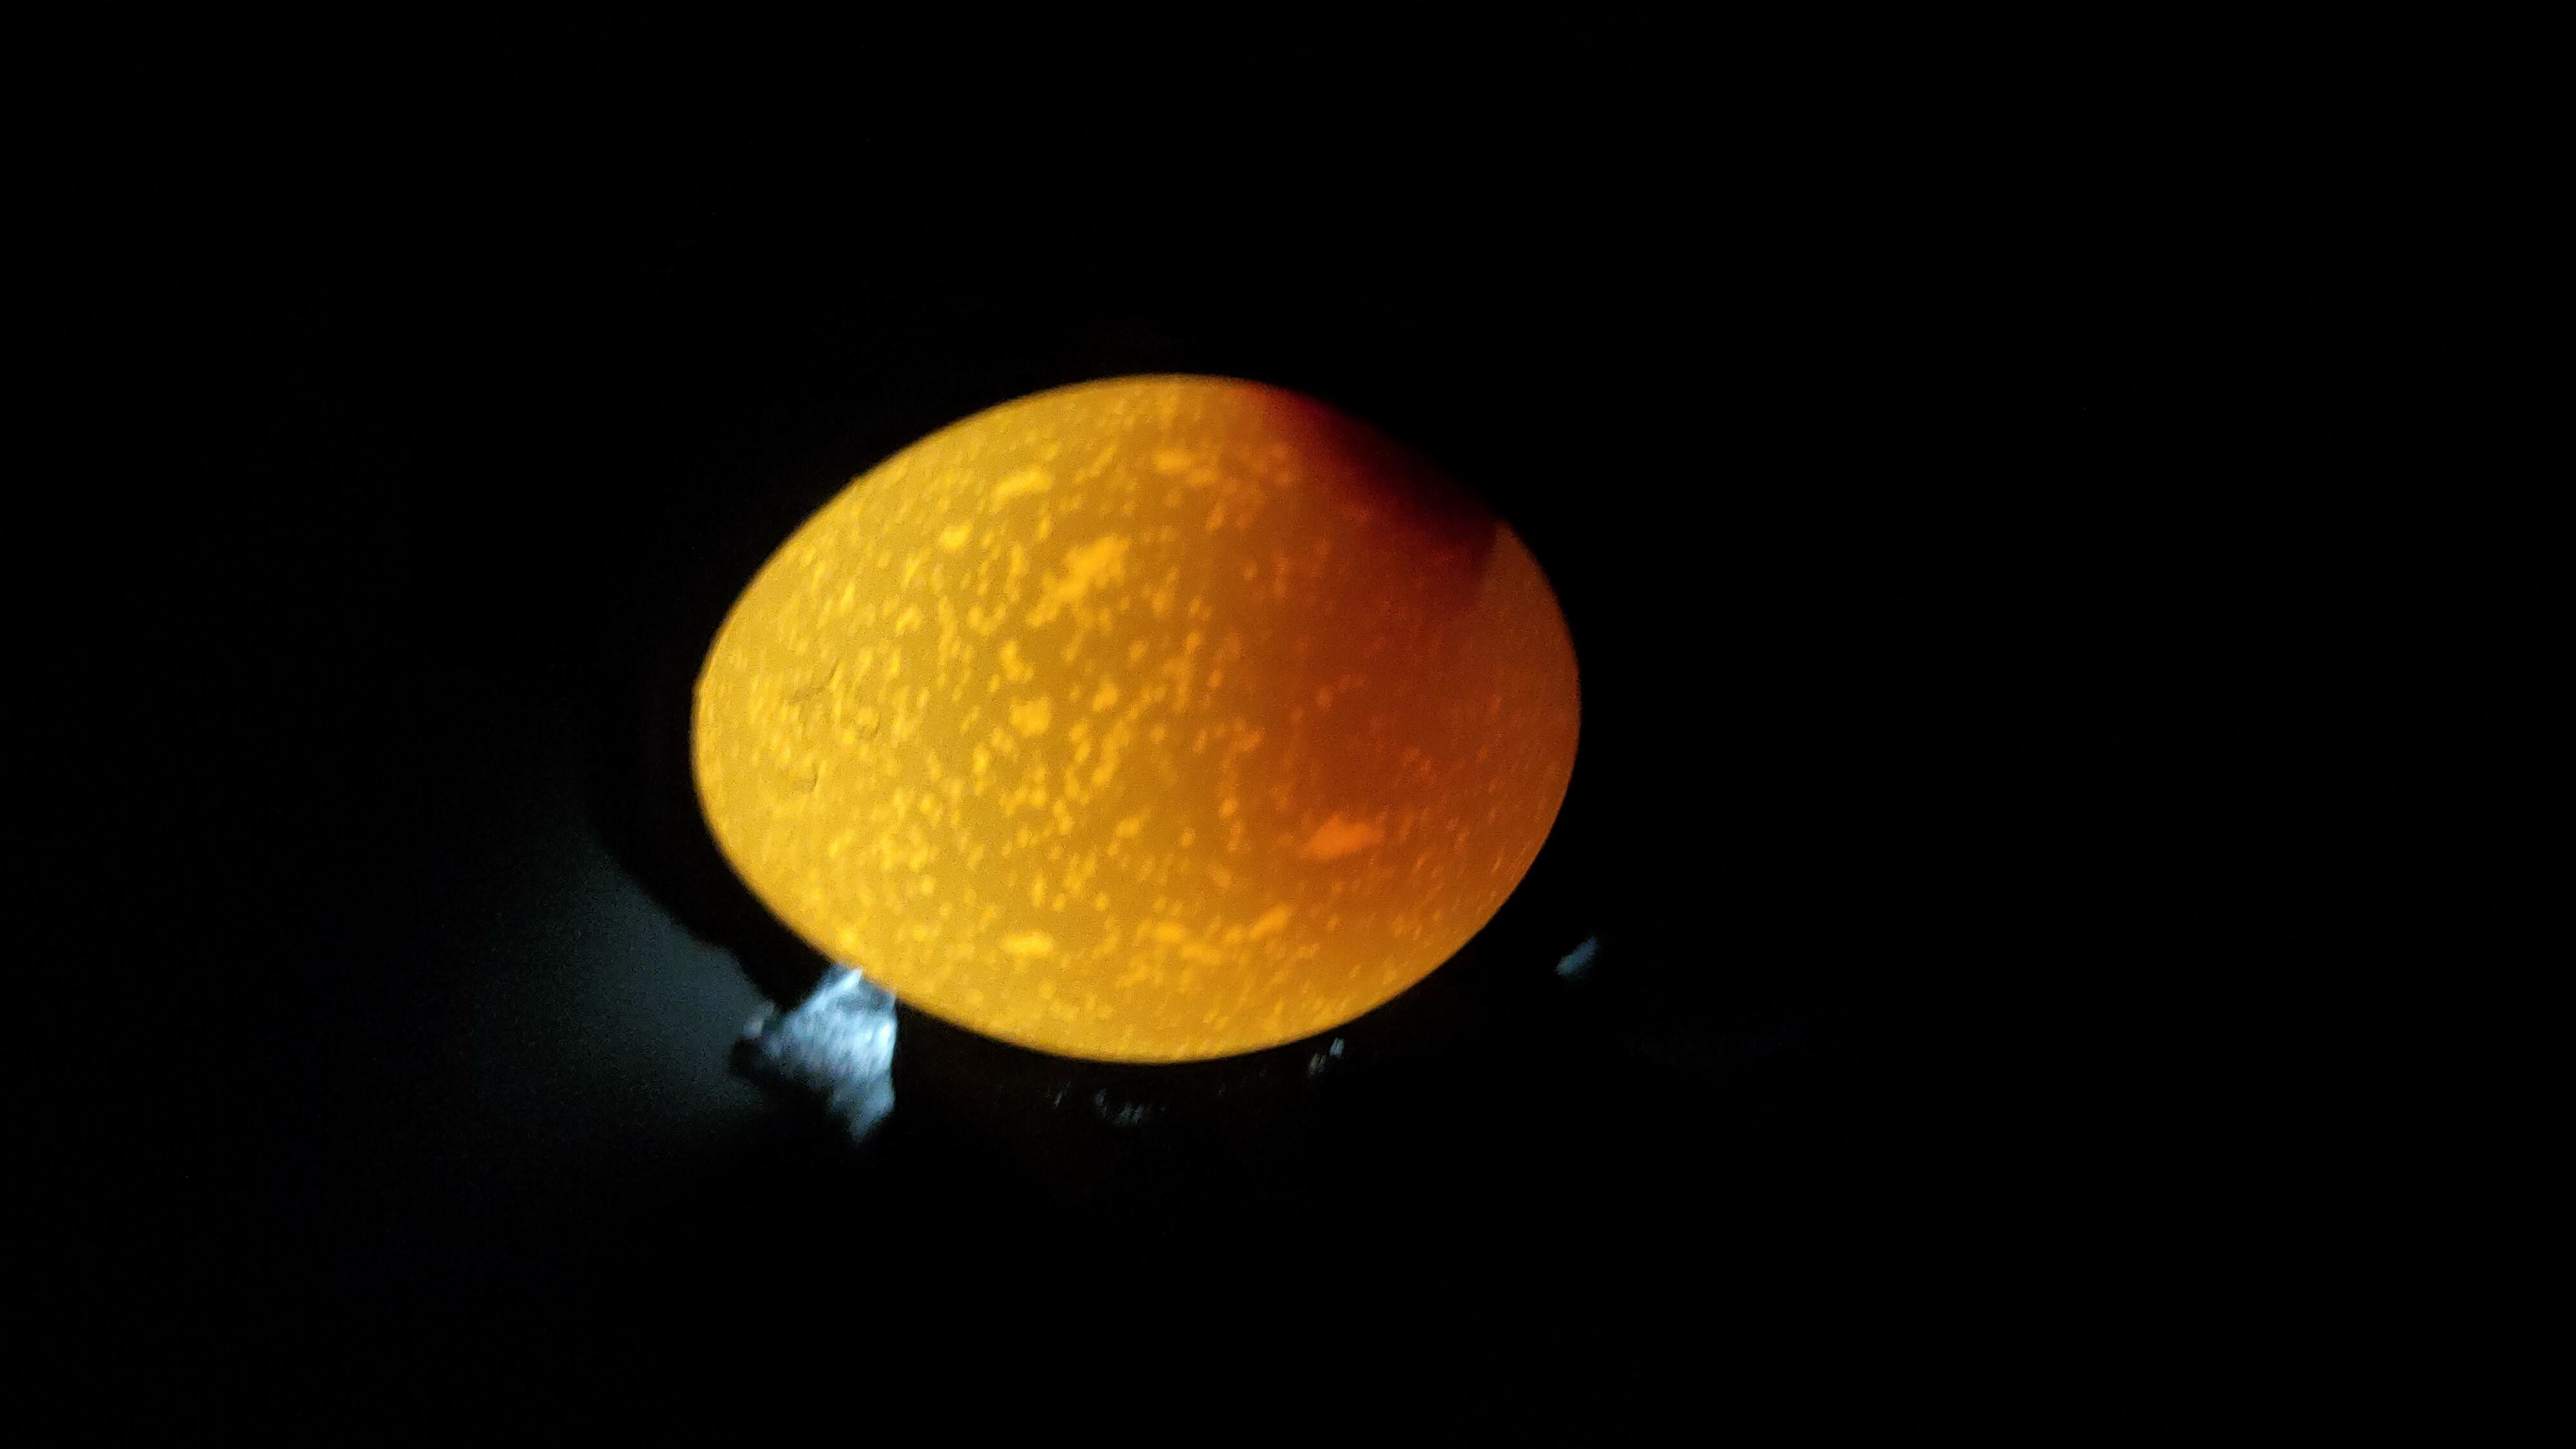AA - Premium: (607, 359, 2072, 924)
